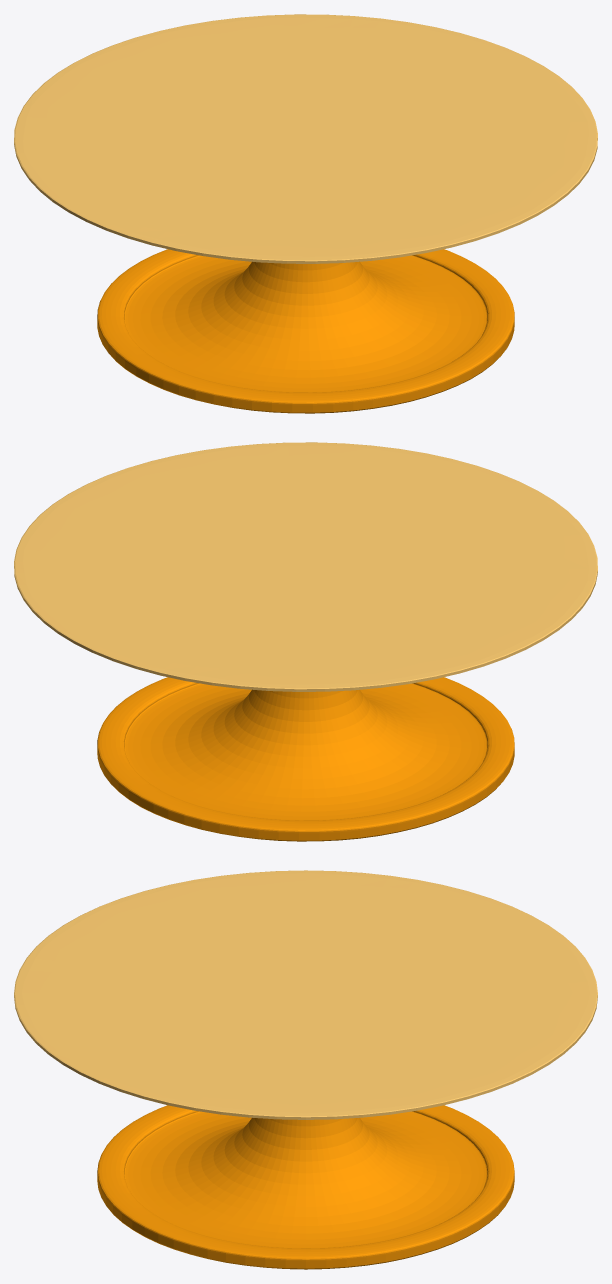
File: table.glb
3 renders of one model, top to bottom at view 1: azimuth 30°, elevation 25°; view 2: azimuth 150°, elevation 25°; view 3: azimuth 270°, elevation 25°, orthographic.
Visible parts, largest first — view 1: Cylinder; view 2: Cylinder; view 3: Cylinder.
Part boxes in pixels (x1=…): Cylinder: x1=14, y1=14, x2=597, y2=413; Cylinder: x1=14, y1=442, x2=597, y2=841; Cylinder: x1=14, y1=870, x2=597, y2=1269.
Bounding box in the file's own units: 1.64 × 0.5871 × 1.64.
